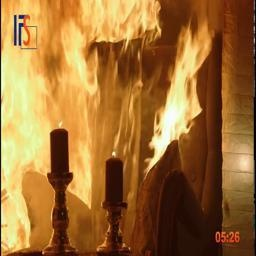fire: (2, 0, 208, 253)
